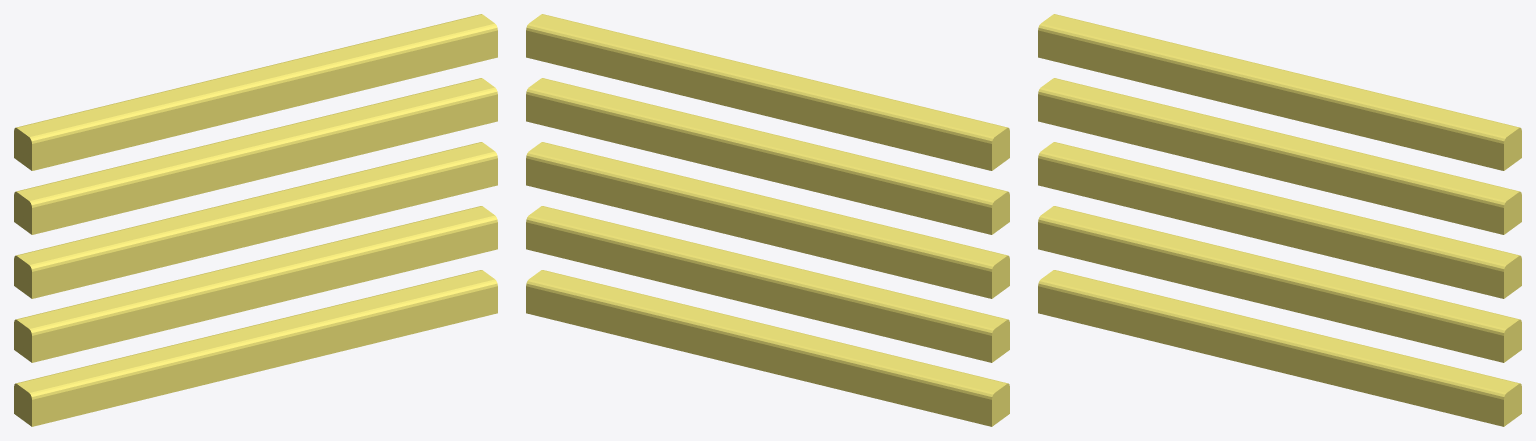
Rendered from Fence.fbx.
The picture shows the model from 3 angles, left to right: view 1: azimuth 30°, elevation 25°; view 2: azimuth 150°, elevation 25°; view 3: azimuth 330°, elevation 25°; orthographic projection.
Visible parts, largest first — view 1: Fence; view 2: Fence; view 3: Fence.
Part boxes in pixels (x1=…): Fence: x1=14, y1=14, x2=497, y2=426; Fence: x1=526, y1=14, x2=1009, y2=426; Fence: x1=1038, y1=14, x2=1521, y2=426.
Size of the model in its own units: 100 by 59.03 by 6.69.
